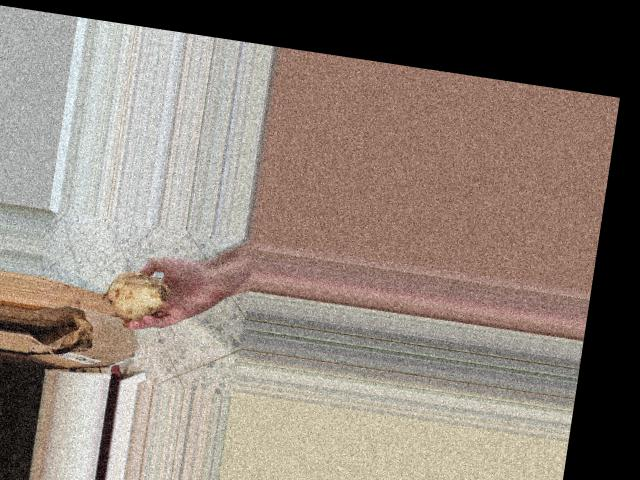onion: (98, 263, 175, 327)
